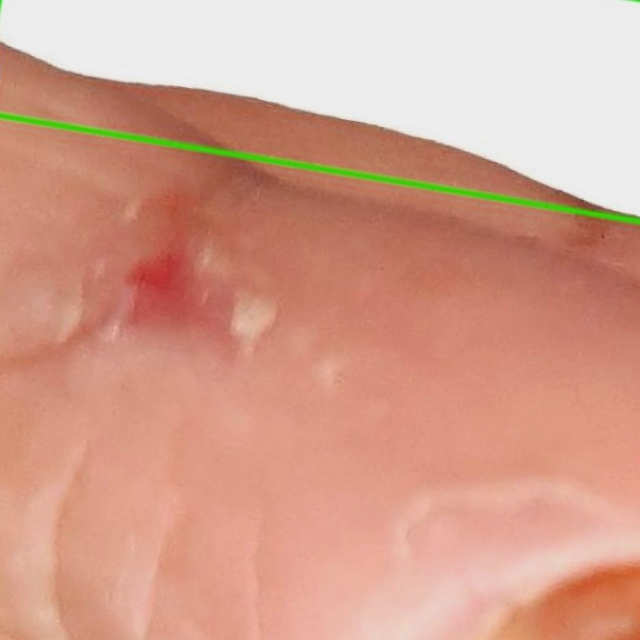Contact Dermatitis: (0, 0, 639, 221)
